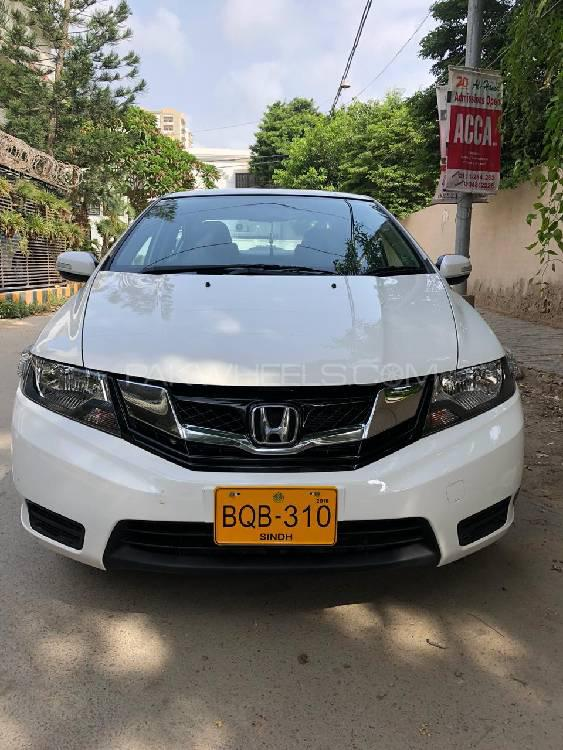license plate: (215, 486, 338, 546)
